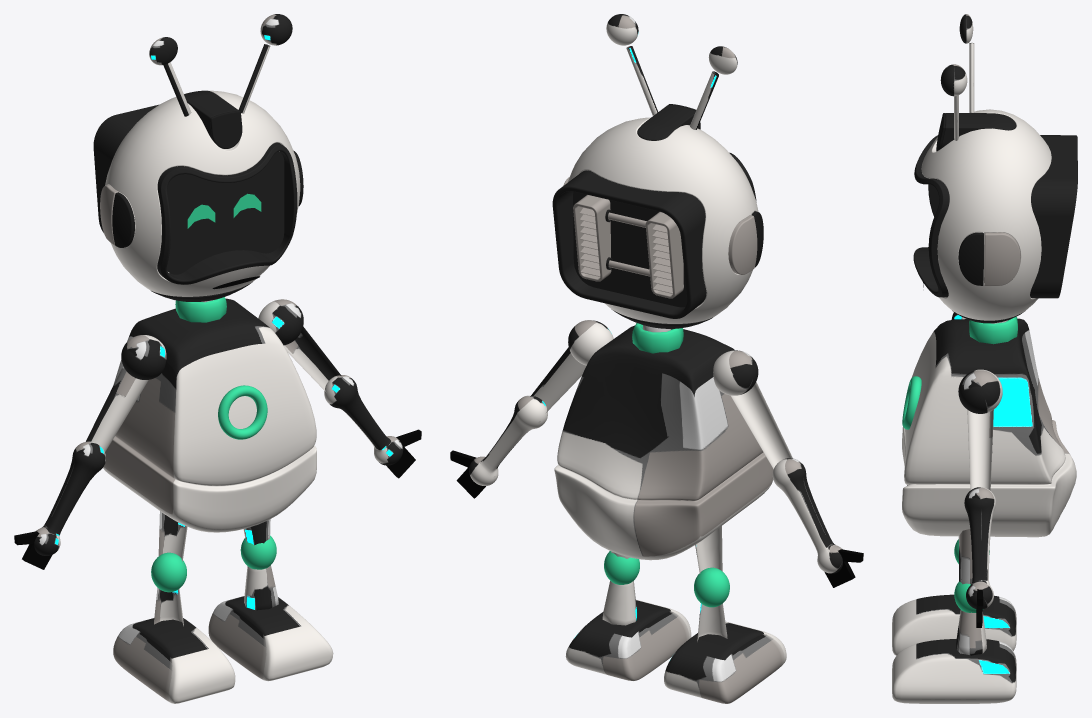
The model's file is AvatarV2.glb.
3 views of the same model, side by side, from view 1: azimuth 30°, elevation 25°; view 2: azimuth 150°, elevation 25°; view 3: azimuth 270°, elevation 25° (orthographic).
Visible parts, largest first — view 1: sphere body_sphere_color_0, Cube.001, Cube.004, Cube.003, Sphere.001, Sphere, Cube.002, Torus.003, Sphere.003, Torus, Sphere.002, Sphere.005 (+1 smaller); view 2: Cube.001, sphere body_sphere_color_0, Cube.004, Sphere.001, Cube.003, Sphere, Cube.002, Sphere.003, Torus, Sphere.002, Sphere.005, Sphere.004; view 3: sphere body_sphere_color_0, Cube.001, Cube.003, Sphere, Cube.004, Cube.002, Torus, Sphere.005, Torus.003, Cylinder.001, Sphere.002, Sphere.004.
Part boxes in pixels (x1,y1,x2,y2): sphere body_sphere_color_0: (93, 90, 303, 301); Cube.001: (103, 298, 316, 532); Cube.004: (113, 618, 235, 703); Cube.003: (208, 596, 333, 681); Sphere.001: (34, 335, 166, 555); Sphere: (258, 299, 403, 465); Cube.002: (154, 511, 278, 626); Torus.003: (218, 385, 267, 439); Sphere.003: (151, 552, 186, 592); Torus: (175, 297, 226, 322); Sphere.002: (240, 535, 276, 569); Sphere.005: (260, 14, 292, 45); Cube.001: (554, 325, 773, 560); sphere body_sphere_color_0: (552, 104, 763, 328); Cube.004: (664, 621, 786, 703); Sphere.001: (713, 350, 842, 573); Cube.003: (565, 599, 691, 680); Sphere: (469, 320, 613, 485); Cube.002: (602, 526, 727, 641); Sphere.003: (694, 567, 729, 607); Torus: (632, 323, 683, 353); Sphere.002: (604, 551, 639, 584); Sphere.005: (606, 14, 638, 45); Sphere.004: (708, 46, 737, 74); sphere body_sphere_color_0: (913, 109, 1077, 323); Cube.001: (902, 318, 1076, 537); Cube.003: (892, 639, 1016, 703); Sphere: (958, 369, 1002, 609); Cube.004: (892, 594, 1016, 655); Cube.002: (956, 529, 986, 655); Torus: (969, 316, 1017, 344); Sphere.005: (940, 64, 967, 96); Torus.003: (902, 376, 921, 429); Cylinder.001: (969, 43, 974, 112); Sphere.002: (954, 581, 983, 612); Sphere.004: (959, 14, 973, 43).
Size of the model in its own units: 1.4 by 2.09 by 0.5594.
Materials: 3 (1 with a texture image).
